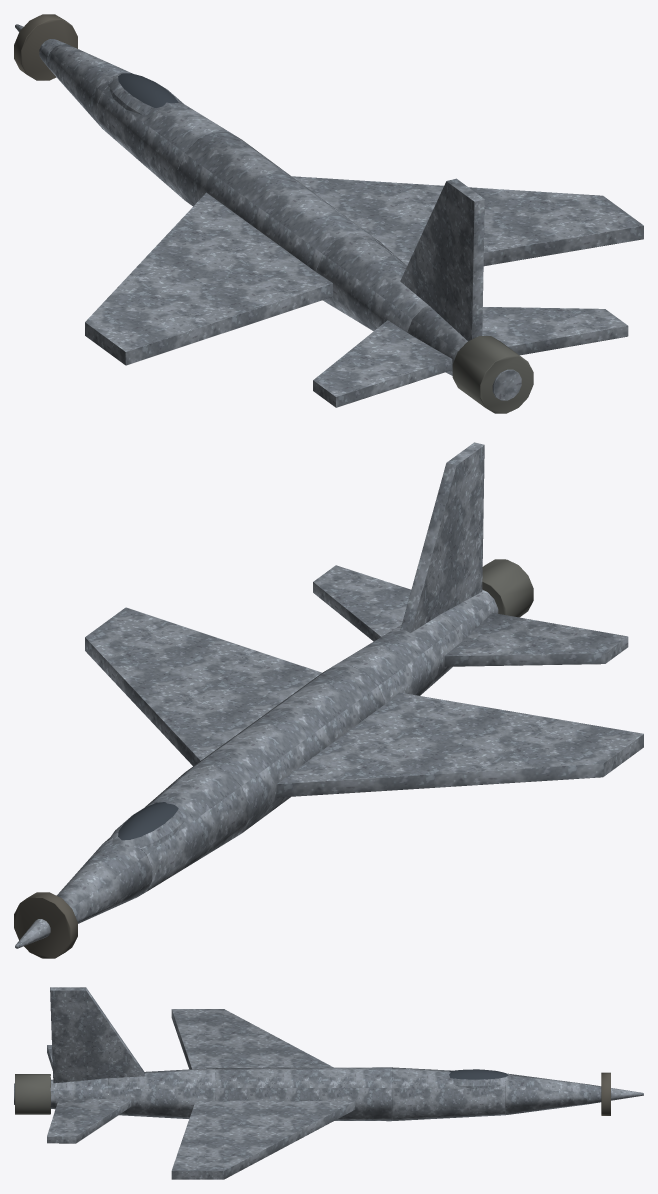
File: air_e1_us_interceptor_LOD1.glb
3 views of the same model, one above another, from view 1: azimuth 30°, elevation 25°; view 2: azimuth 150°, elevation 25°; view 3: azimuth 270°, elevation 25° (orthographic). The views are drawn at different scales.
Visible parts, largest first — view 1: air_e1_us_interceptor_LOD1_body, air_e1_us_interceptor_LOD1_gun, air_e1_us_interceptor_LOD1_deck, air_e1_us_interceptor_LOD1_glass; view 2: air_e1_us_interceptor_LOD1_body, air_e1_us_interceptor_LOD1_deck, air_e1_us_interceptor_LOD1_gun, air_e1_us_interceptor_LOD1_glass; view 3: air_e1_us_interceptor_LOD1_body, air_e1_us_interceptor_LOD1_gun, air_e1_us_interceptor_LOD1_glass, air_e1_us_interceptor_LOD1_deck.
Boxes of the visible parts, x1=… form: air_e1_us_interceptor_LOD1_body: x1=15, y1=24, x2=643, y2=407; air_e1_us_interceptor_LOD1_gun: x1=452, y1=336, x2=533, y2=413; air_e1_us_interceptor_LOD1_deck: x1=14, y1=14, x2=77, y2=80; air_e1_us_interceptor_LOD1_glass: x1=118, y1=73, x2=178, y2=107; air_e1_us_interceptor_LOD1_body: x1=15, y1=442, x2=643, y2=948; air_e1_us_interceptor_LOD1_deck: x1=14, y1=892, x2=77, y2=958; air_e1_us_interceptor_LOD1_gun: x1=482, y1=559, x2=533, y2=617; air_e1_us_interceptor_LOD1_glass: x1=118, y1=802, x2=178, y2=840; air_e1_us_interceptor_LOD1_body: x1=14, y1=987, x2=643, y2=1179; air_e1_us_interceptor_LOD1_gun: x1=15, y1=1074, x2=50, y2=1114; air_e1_us_interceptor_LOD1_glass: x1=449, y1=1069, x2=508, y2=1079; air_e1_us_interceptor_LOD1_deck: x1=601, y1=1072, x2=610, y2=1115.
Size of the model in its own units: 11.7 by 4.37 by 19.2.
4 materials, 1 textured.
